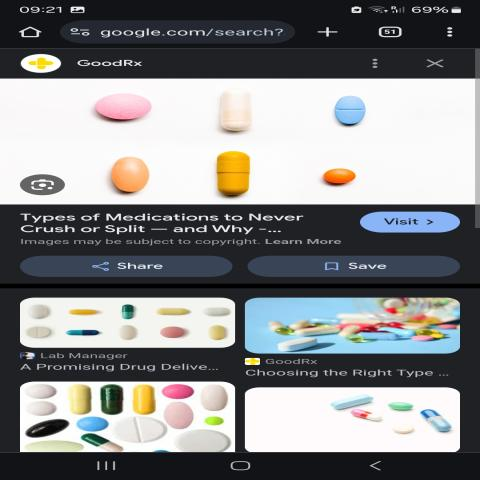Pill: (206, 83, 284, 140), (196, 145, 273, 201), (76, 91, 178, 132), (94, 151, 170, 203), (324, 94, 388, 136), (307, 158, 370, 190)
